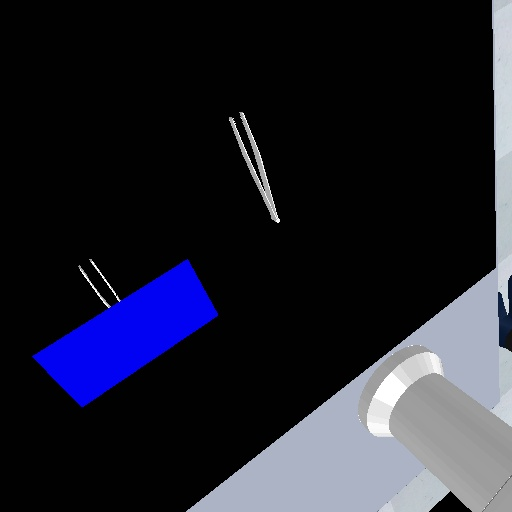pinza: (226, 106, 282, 227), (73, 254, 123, 312)
